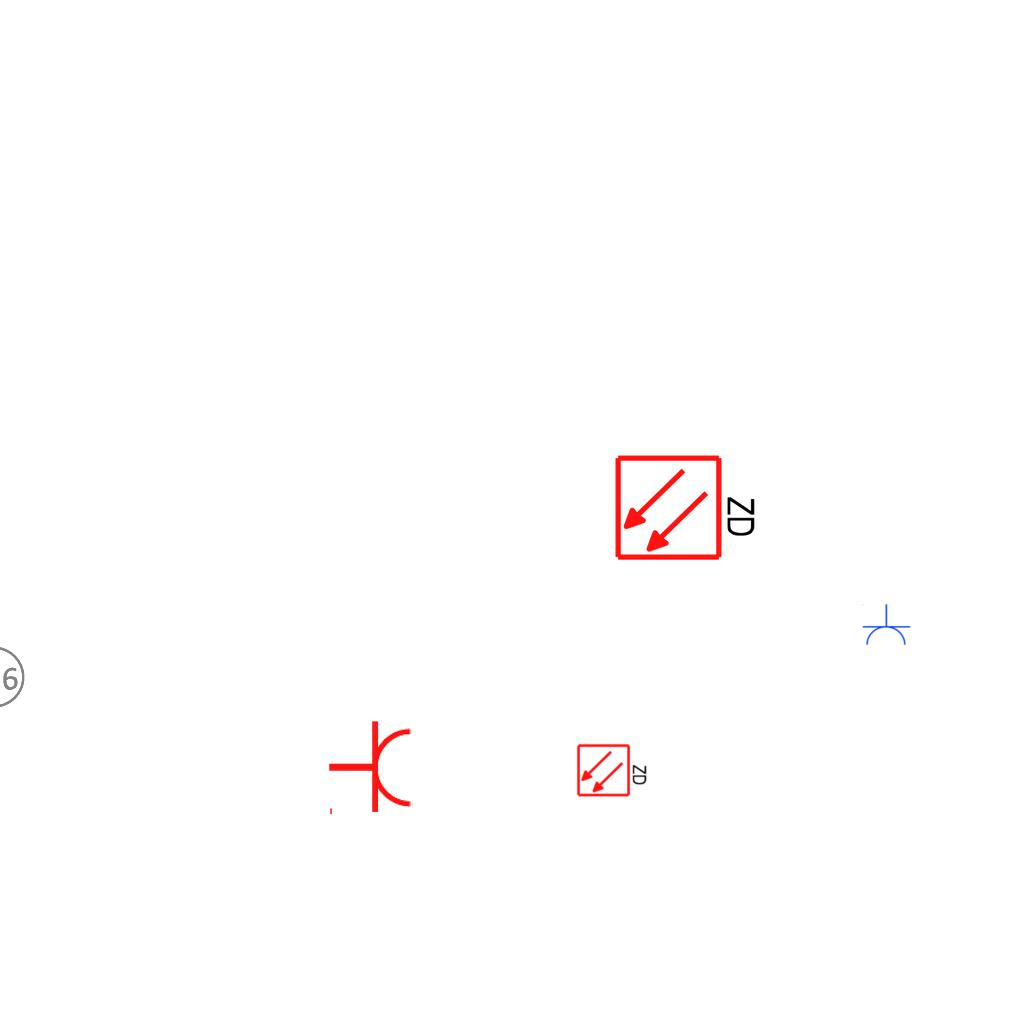Schukosteckdose_einfach: (327, 719, 414, 819), (860, 603, 912, 648)
ZD_Melder_in_Zwischendecke_mit_Revisionsoeffnung_mind_40_x_40_cm: (613, 449, 762, 563), (576, 741, 650, 798)
